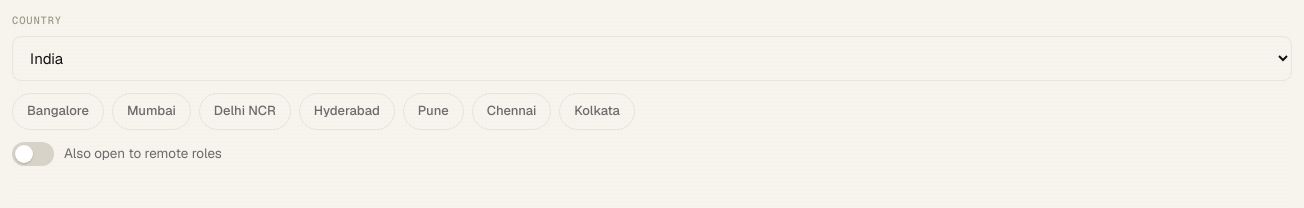
Scenario: LocationPreferenceSelector › toggling remote adds Remote independently of selected cities
What coordinates should you click on to do the following:
click the button "Bangalore"
I would click on:
 (58, 111)
Its box is [12,93,104,130].
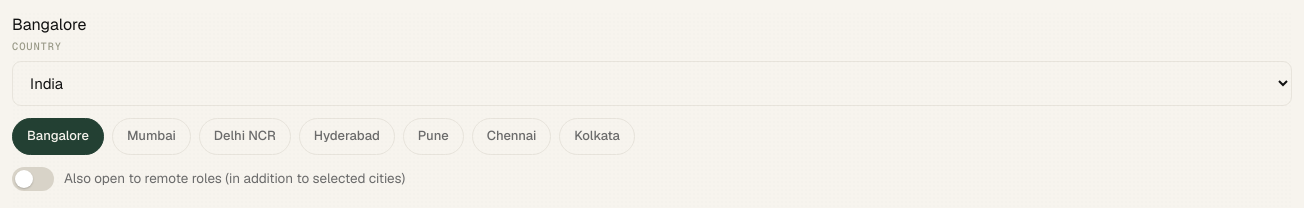
What coordinates should you click on to do the following:
click the switch
I would click on:
 (33, 179)
Its box is [12,167,54,191].
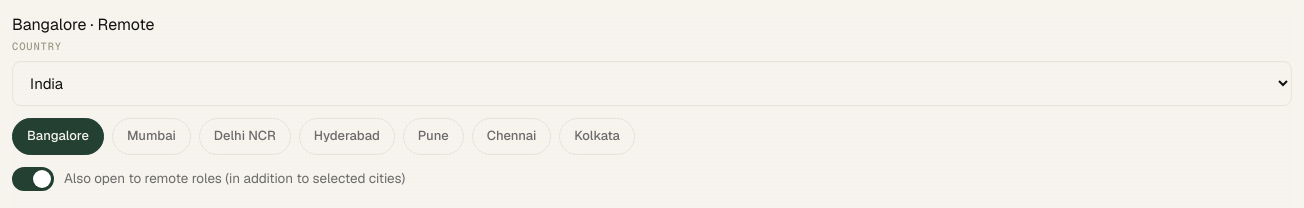
Now the text with test id "value" reads "Bangalore · Remote", box [12,14,154,35]
